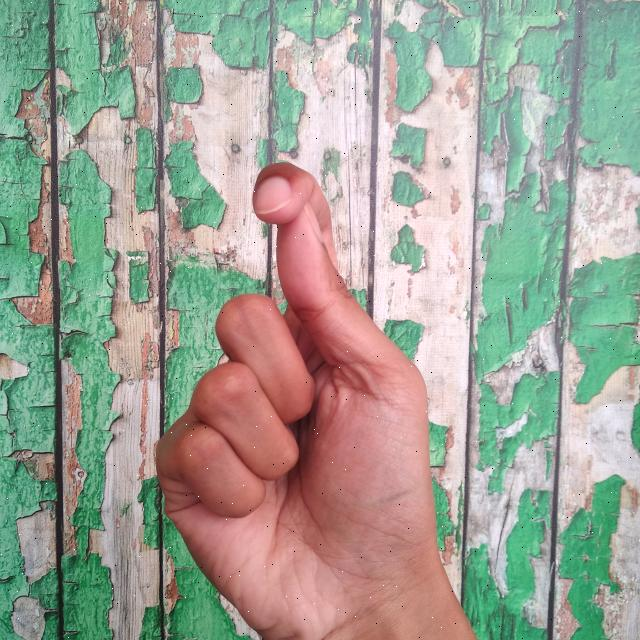T: (150, 159, 479, 640)
